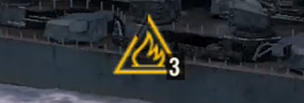3fire: (110, 38, 186, 82)
